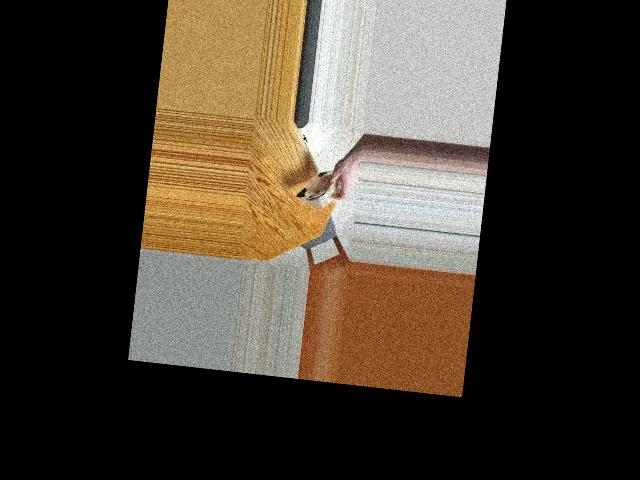cheese: (295, 155, 341, 217)
